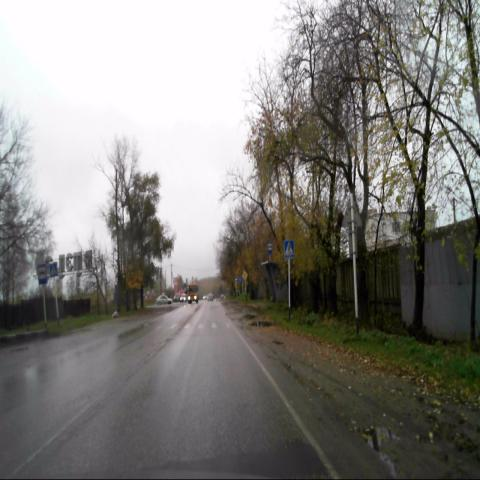5_16: (37, 264, 47, 285)
5_19_1: (284, 240, 294, 259), (50, 262, 58, 277)
